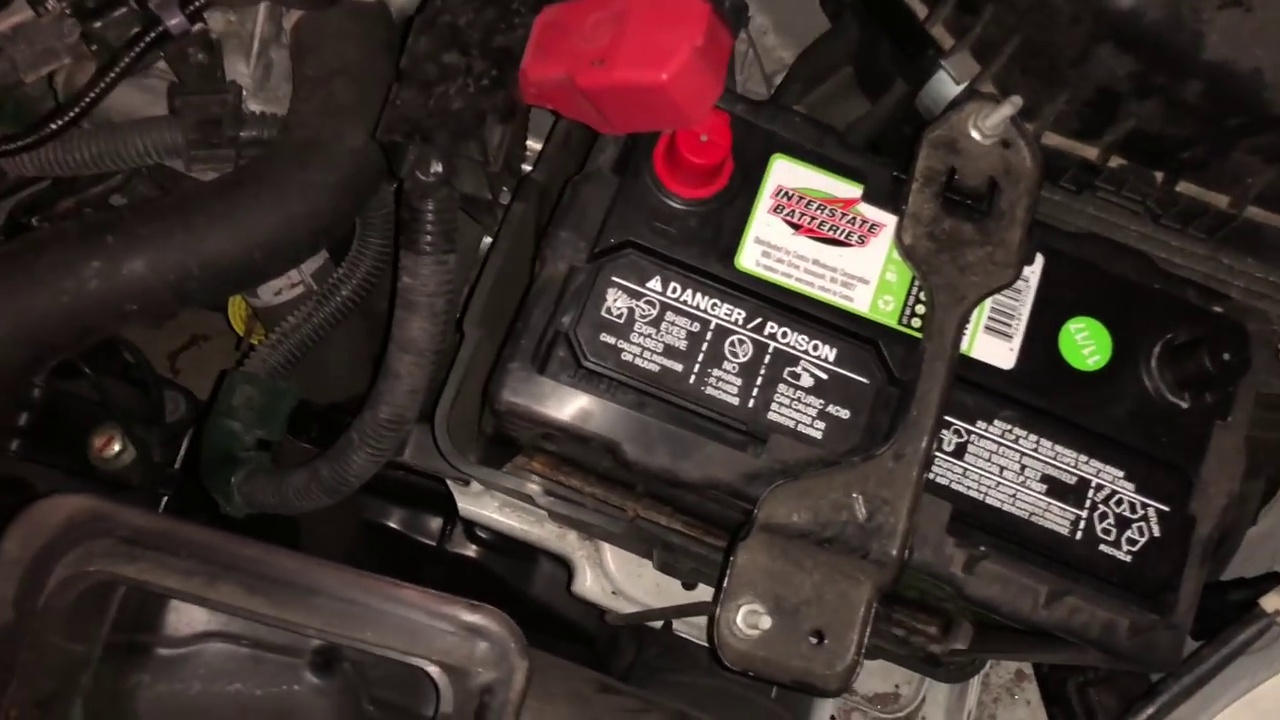battery: (505, 40, 1258, 651)
pos_disconnected: (524, 7, 746, 212)
